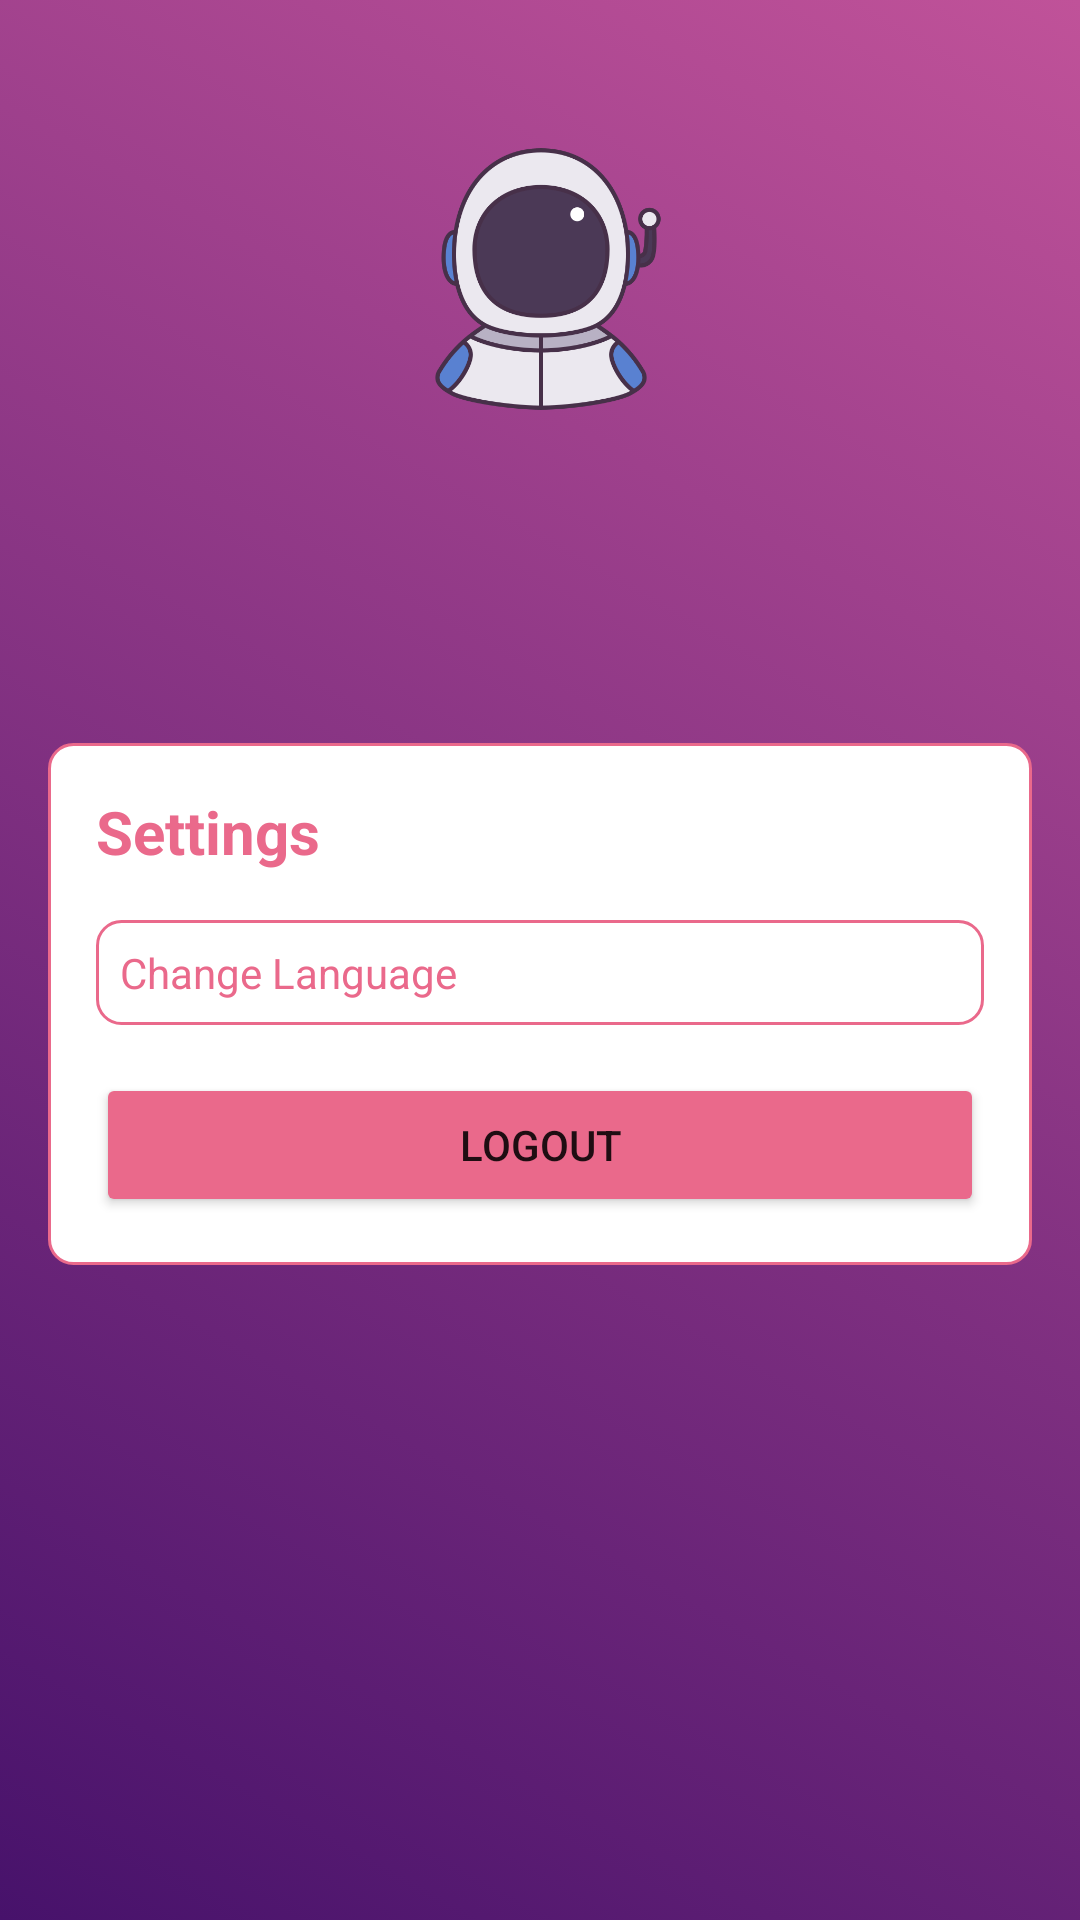

Screen size 1080 x 1920. Icon name, then its center in pixels as (x,y):
This is a User Avatar: (548,279)
